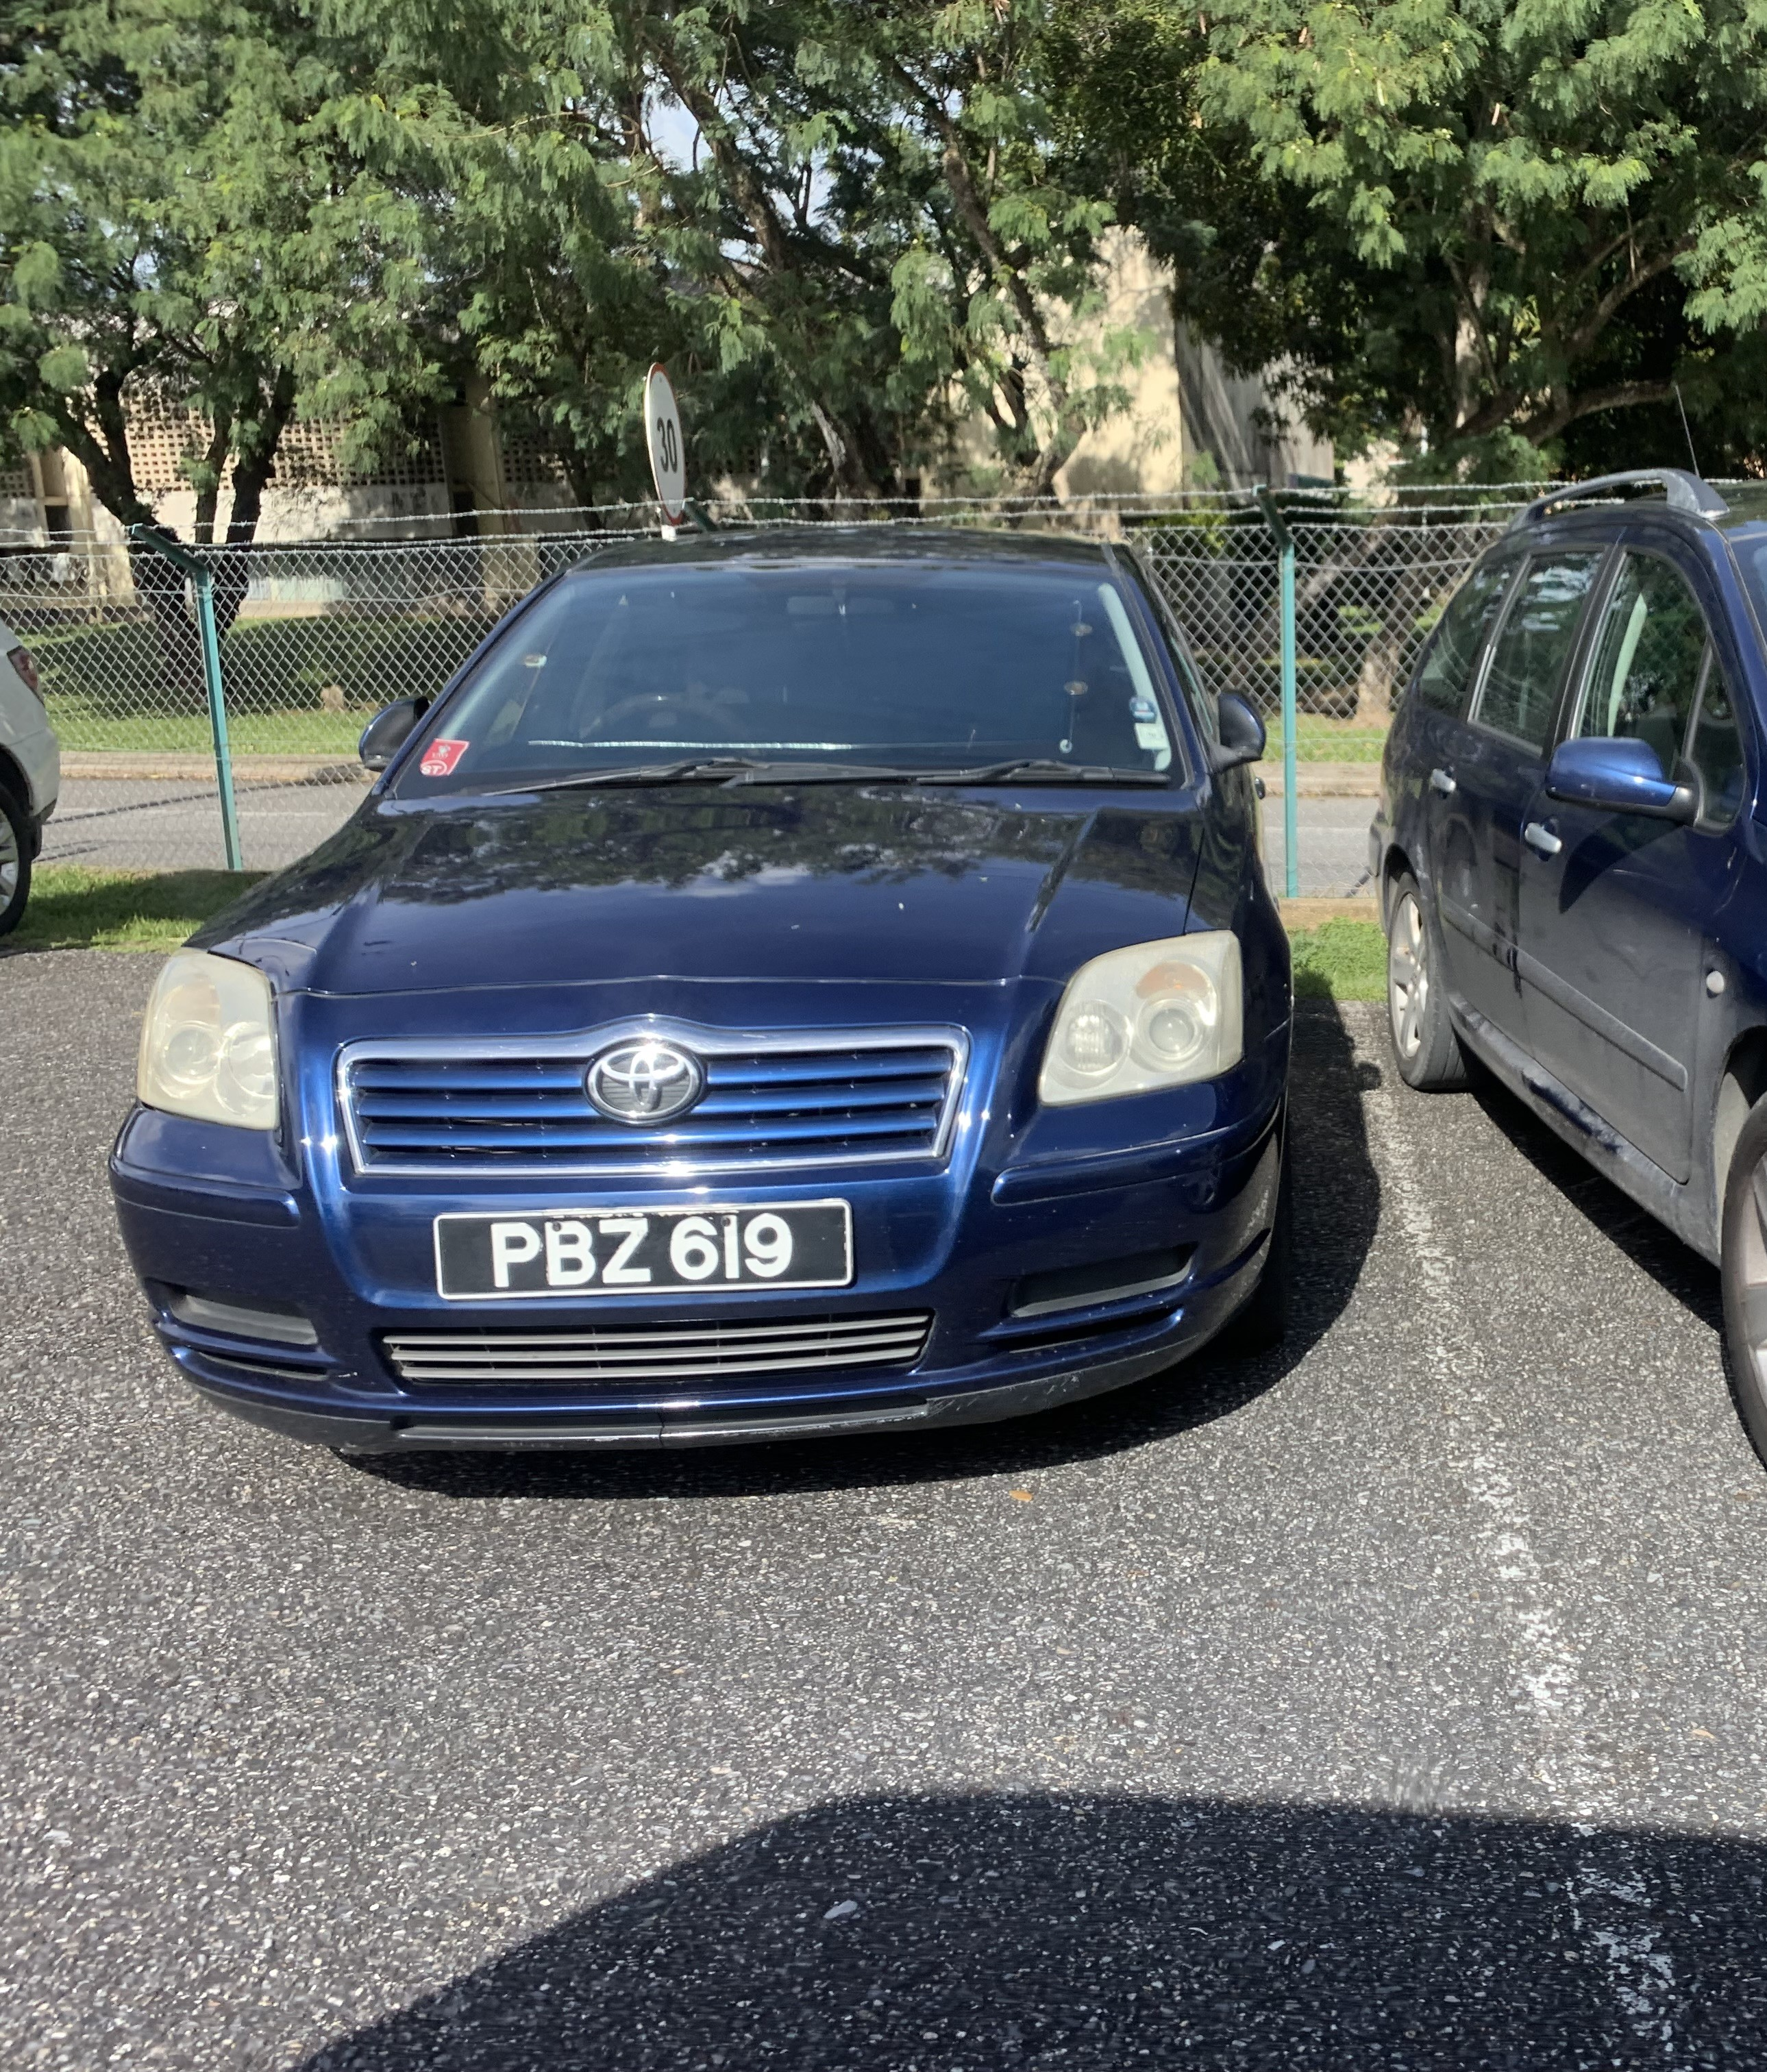License-Plate: (429, 1198, 855, 1305)
